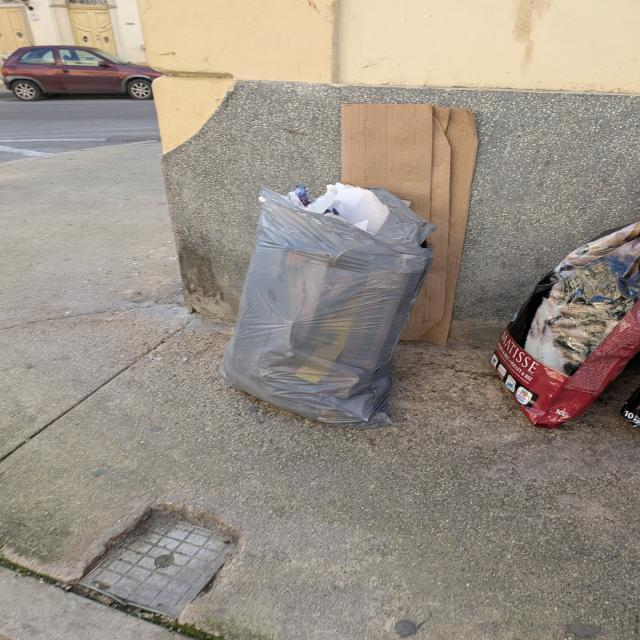Other Waste: (338, 101, 481, 346), (490, 219, 640, 428)
Recyclable Material: (222, 186, 435, 435)
